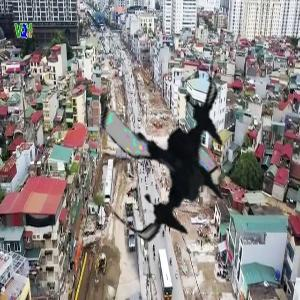drone: (74, 56, 257, 239)
